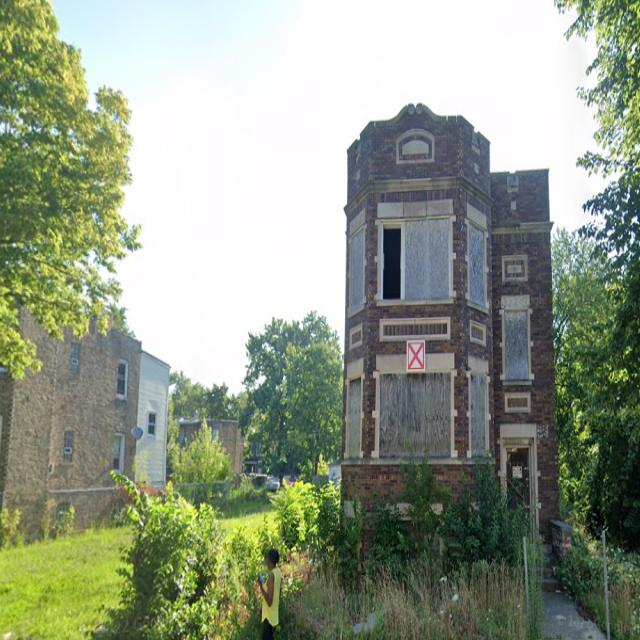House: (340, 102, 568, 586), (0, 283, 173, 546), (179, 415, 243, 495)
